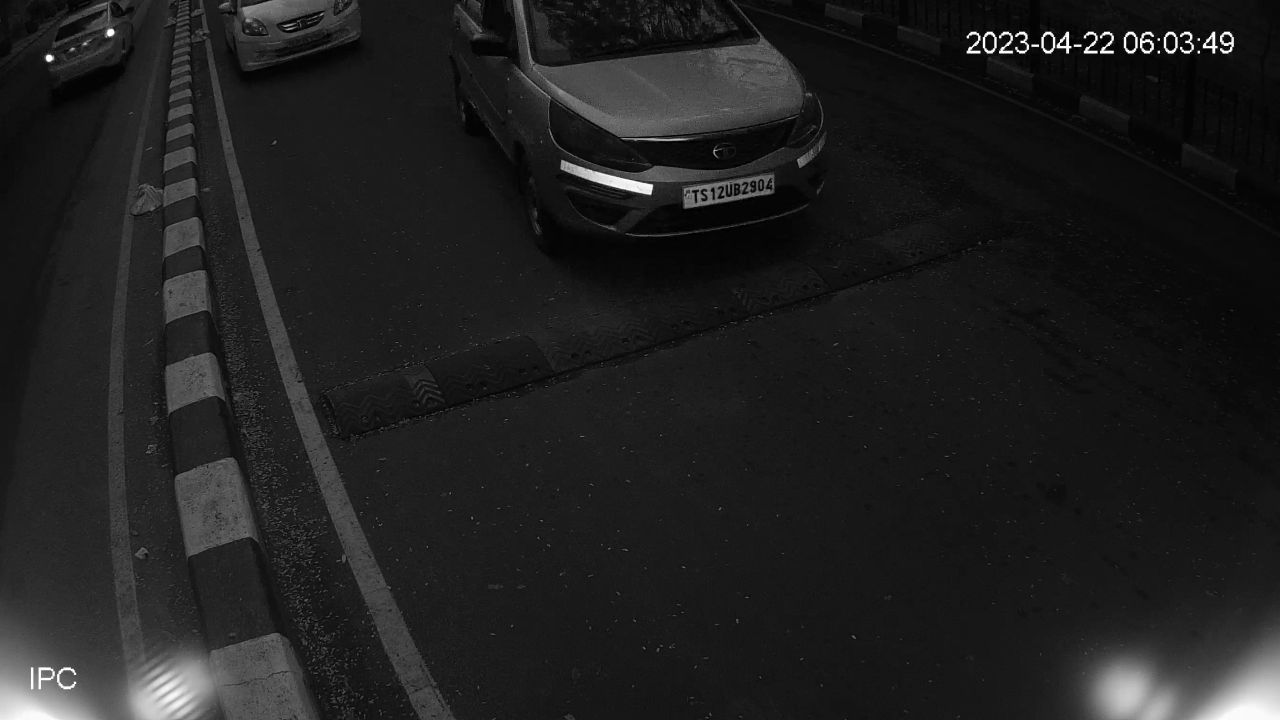license_plate: (675, 168, 783, 212)
